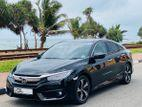car: (8, 39, 133, 104)
